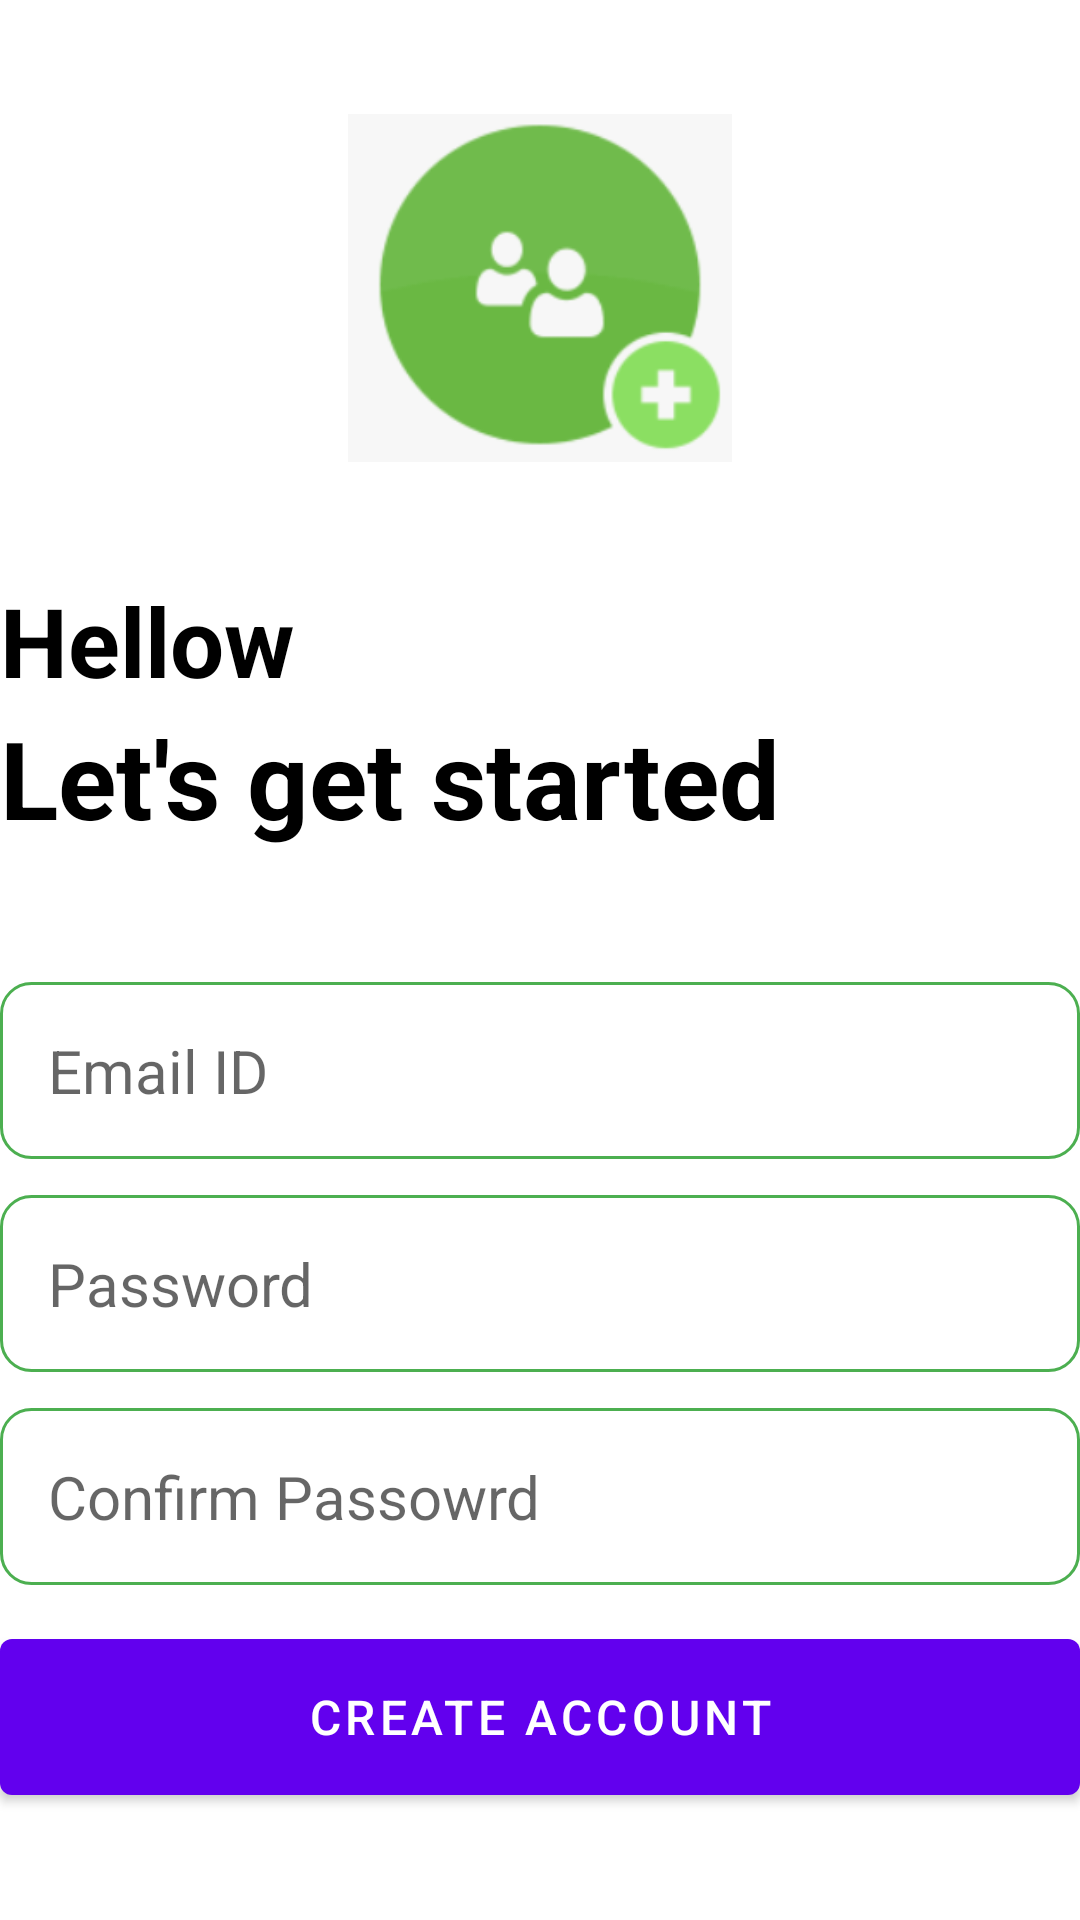

Named icons in this screenshot (1080 × 1920) and their bounding boxes, (x1, y1, x2, y2):
createaccount: (379, 124, 721, 449)
